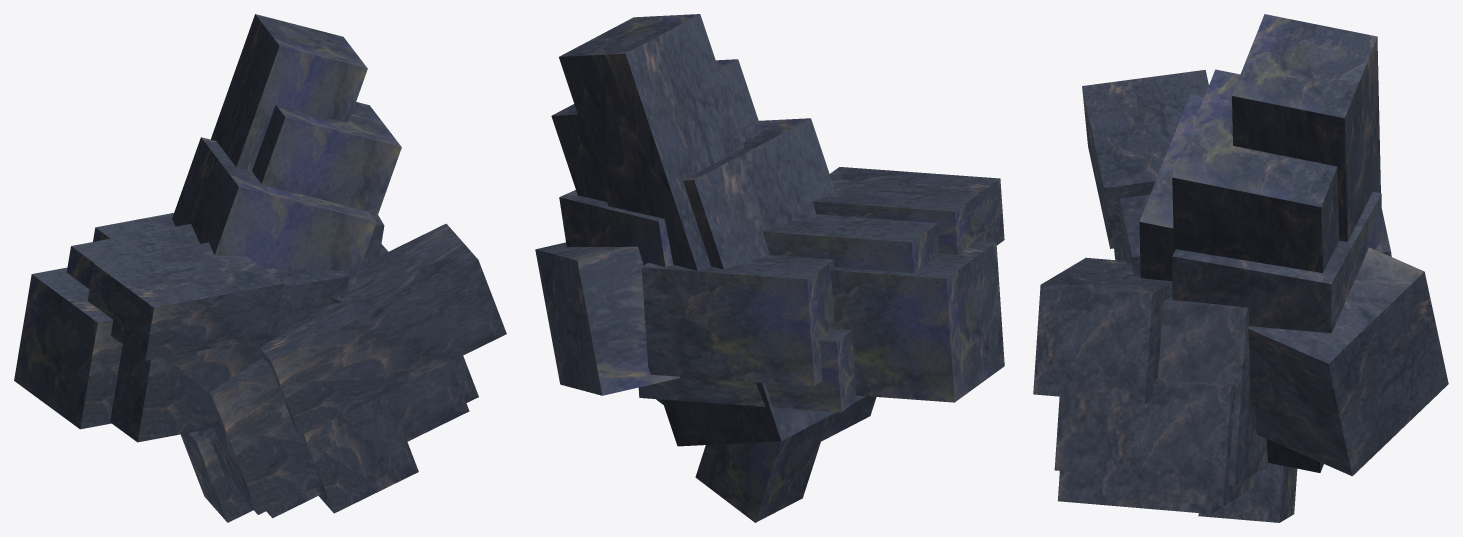
Rendered from MS-Rock02.fbx.
3 renders of one model, left to right at view 1: azimuth 30°, elevation 25°; view 2: azimuth 150°, elevation 25°; view 3: azimuth 270°, elevation 25°, orthographic. The views are drawn at different scales.
Visible parts, largest first — view 1: Cube.015; view 2: Cube.015; view 3: Cube.015.
Boxes of the visible parts, box(x1,y1,x2,y2) form: Cube.015: box(14, 14, 506, 522); Cube.015: box(535, 14, 1004, 522); Cube.015: box(1033, 14, 1448, 522).
Bounding box in the file's own units: 461 × 492 × 345.
